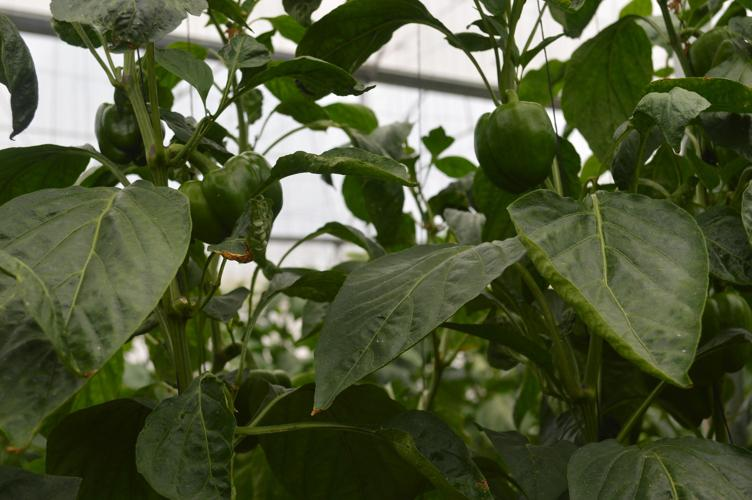BellPepper: (178, 156, 291, 244), (470, 103, 556, 191), (681, 291, 747, 370), (96, 107, 157, 159)
